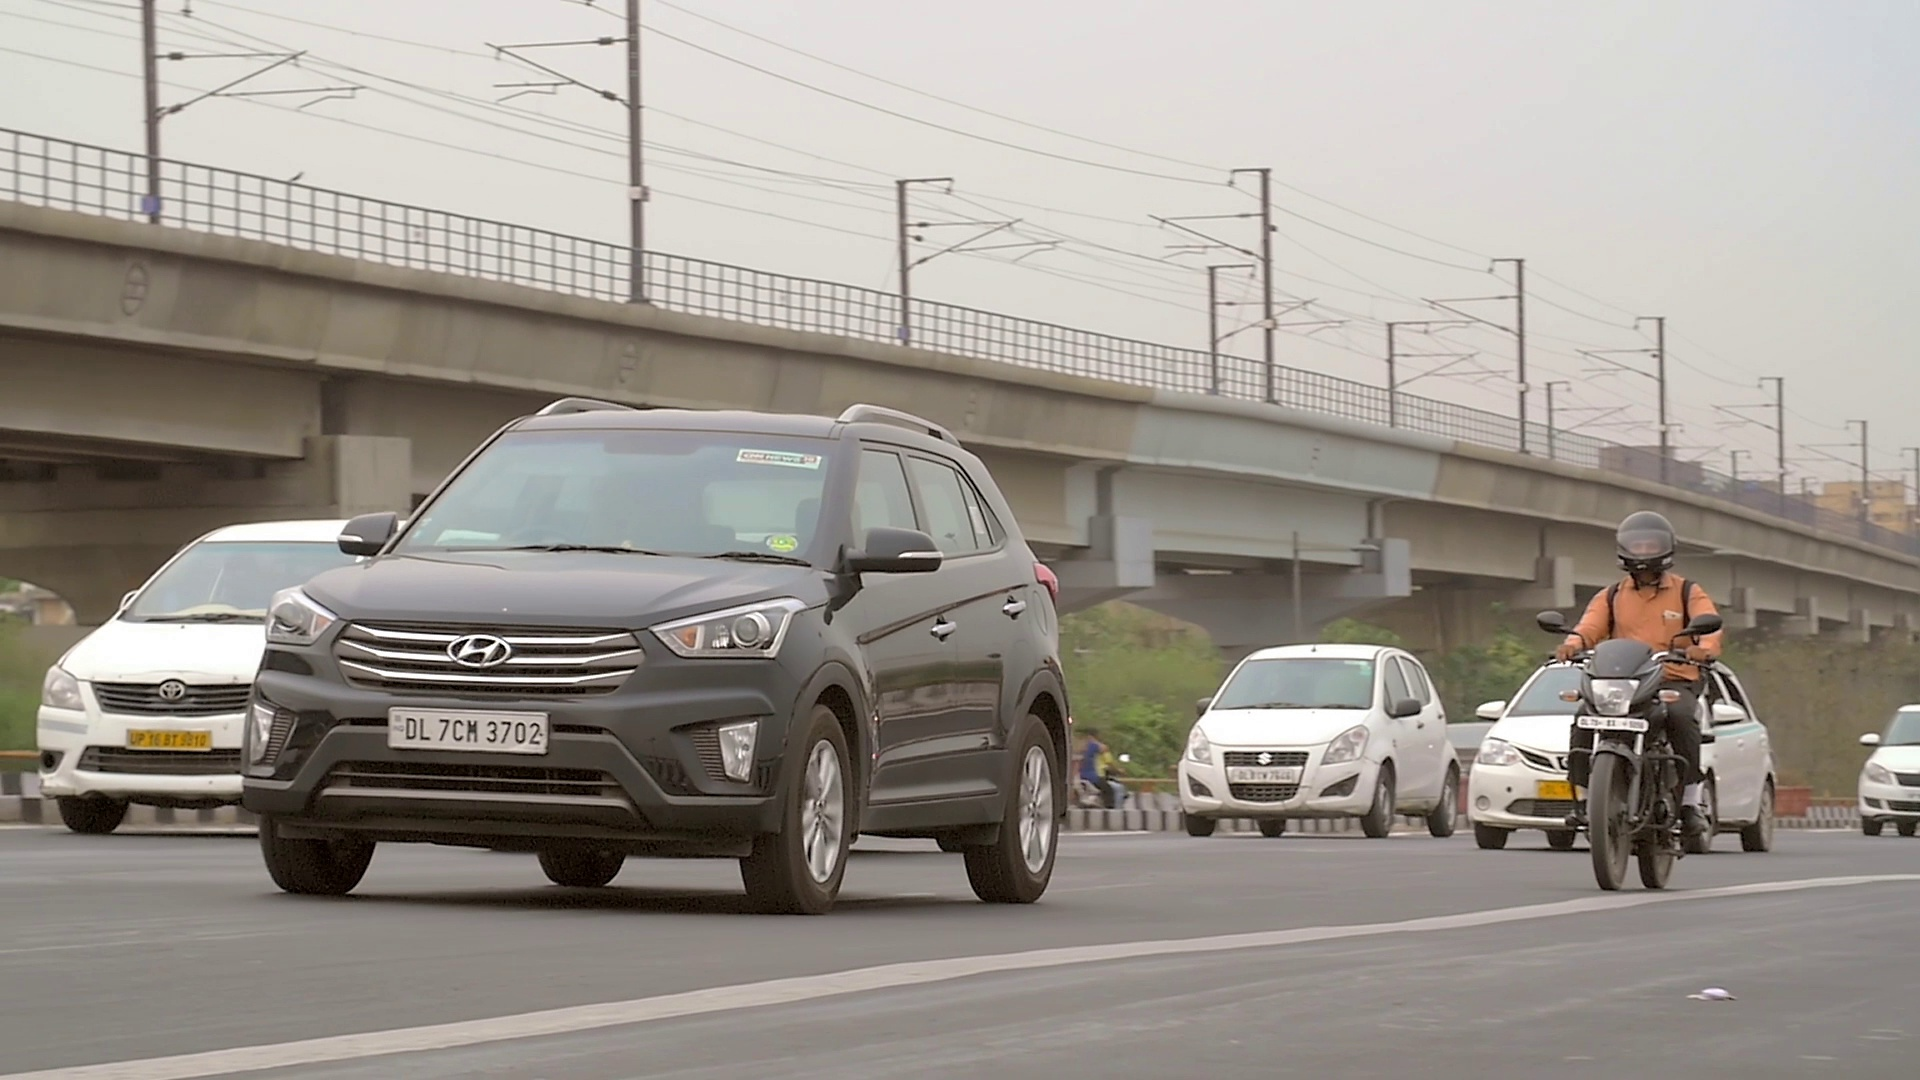bike: (1581, 512, 1704, 891)
car: (239, 392, 1077, 910), (1174, 632, 1458, 851)
